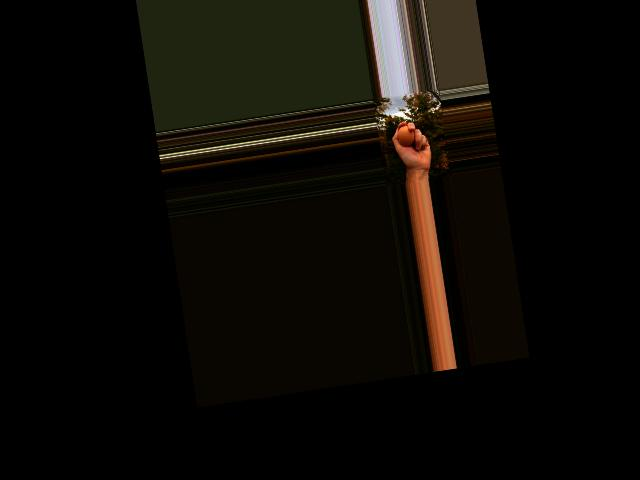egg: (396, 124, 416, 147)
